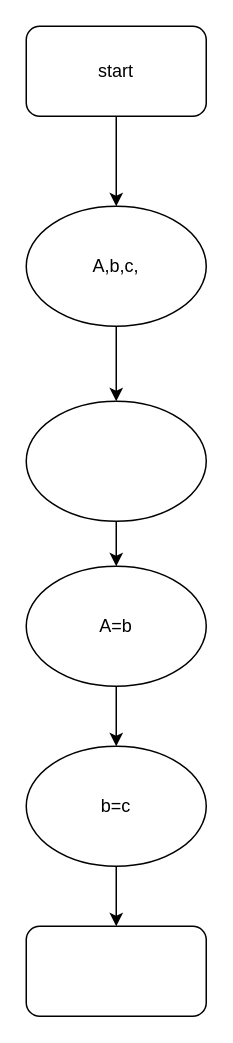
Image size: 233x1043. Some labels were removed from this diagram. The shapes that lost their labels are listed below. From the top down, each one's centre as x and y in pixels, then its label:
At point 115,460: "C=a".
At point 115,970: "konec".
